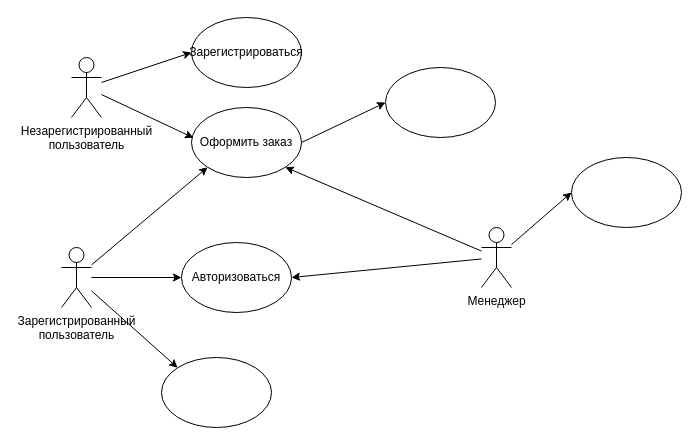
Some shapes in this 699 by 445 pixel diagram are drawn without their labels. The shapes that lost their labels are listed below. From the top down, each one's centre as x and y in pixels, then its label:
At (x=440, y=102): "Оплатить заказ".
At (x=626, y=192): "Распределение заказов между курьерами".
At (x=216, y=392): "Стать курьером".
